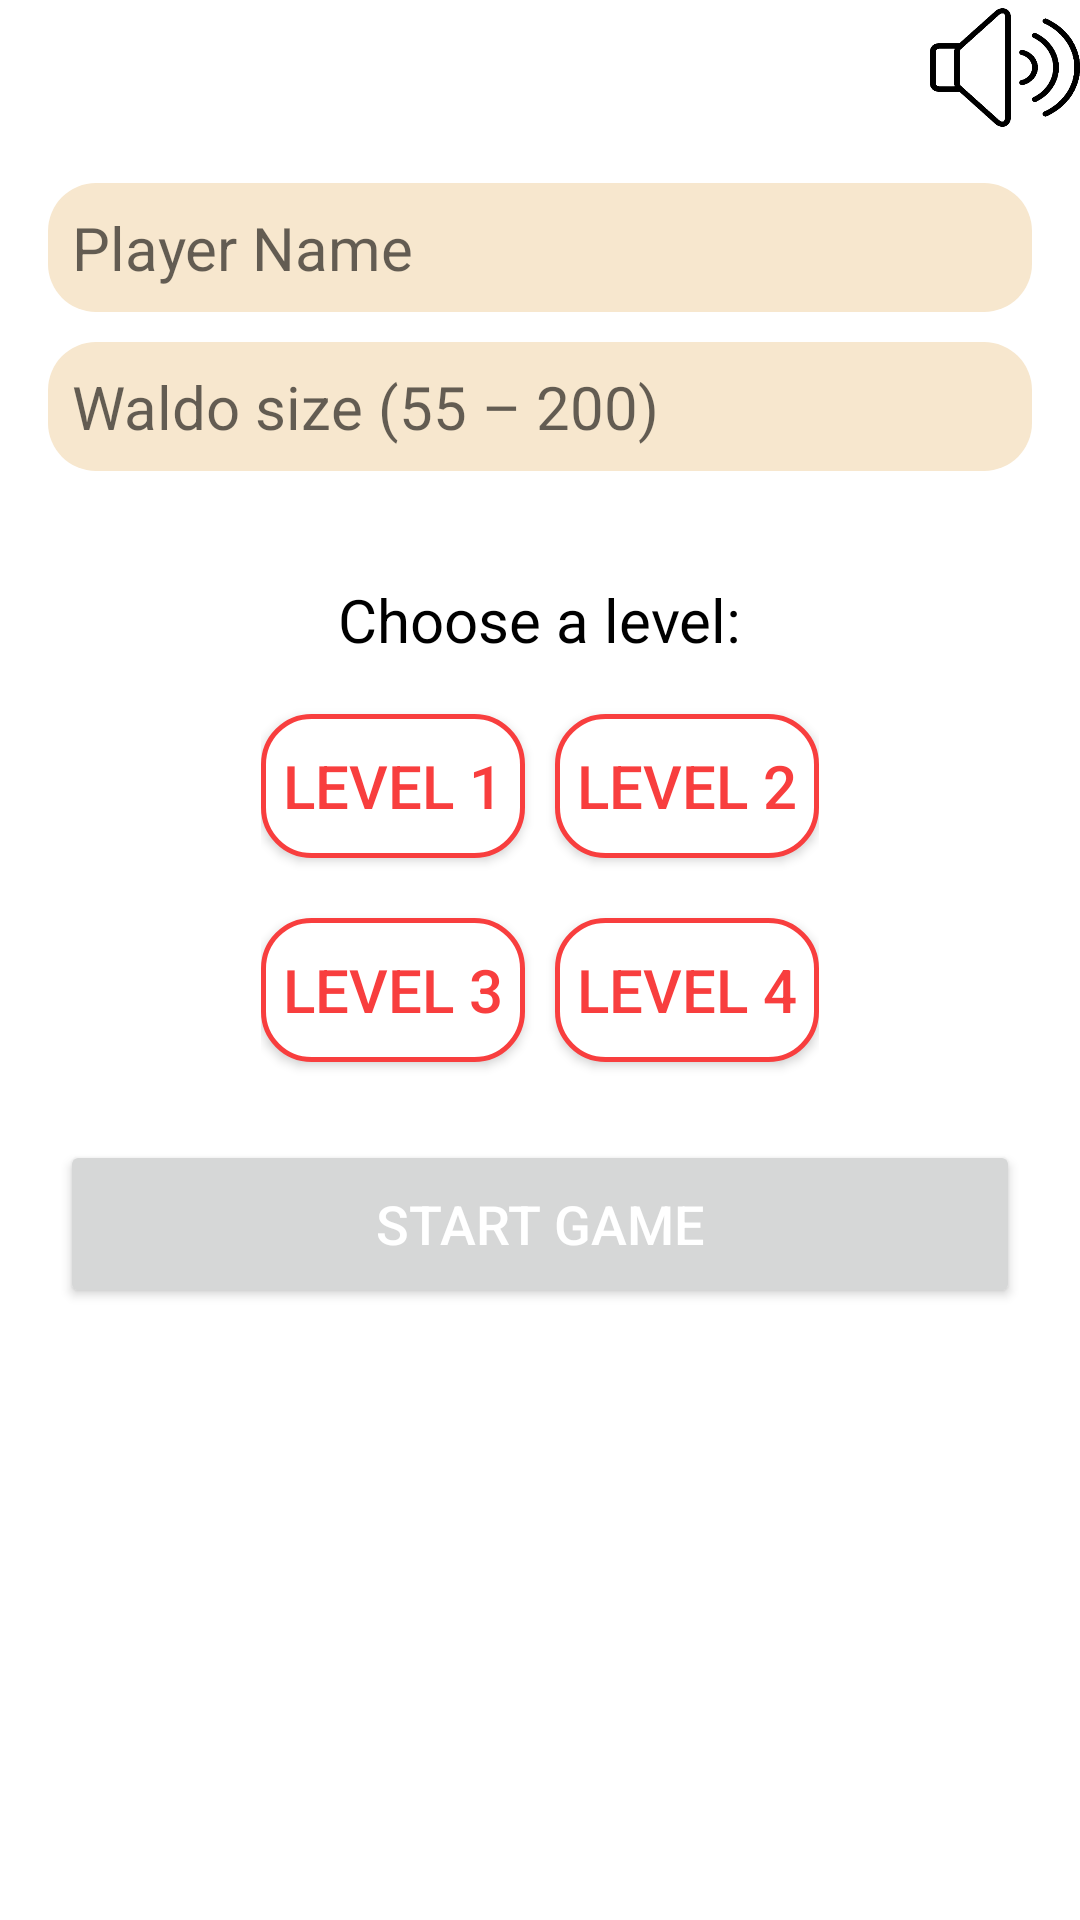

Icon click points for this 1080*1920 phone screenshot, format point (x, y):
audio on: point (1005, 67)
